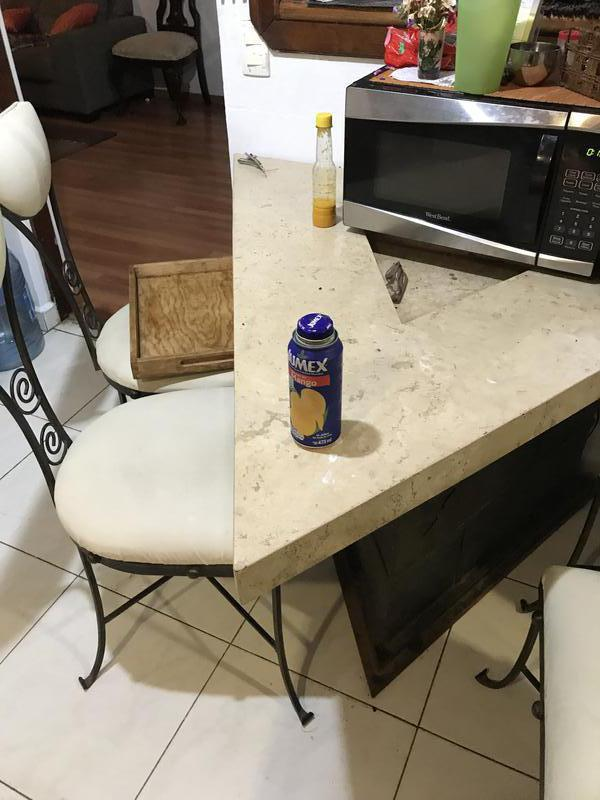jugo_jumex: (285, 314, 346, 449)
